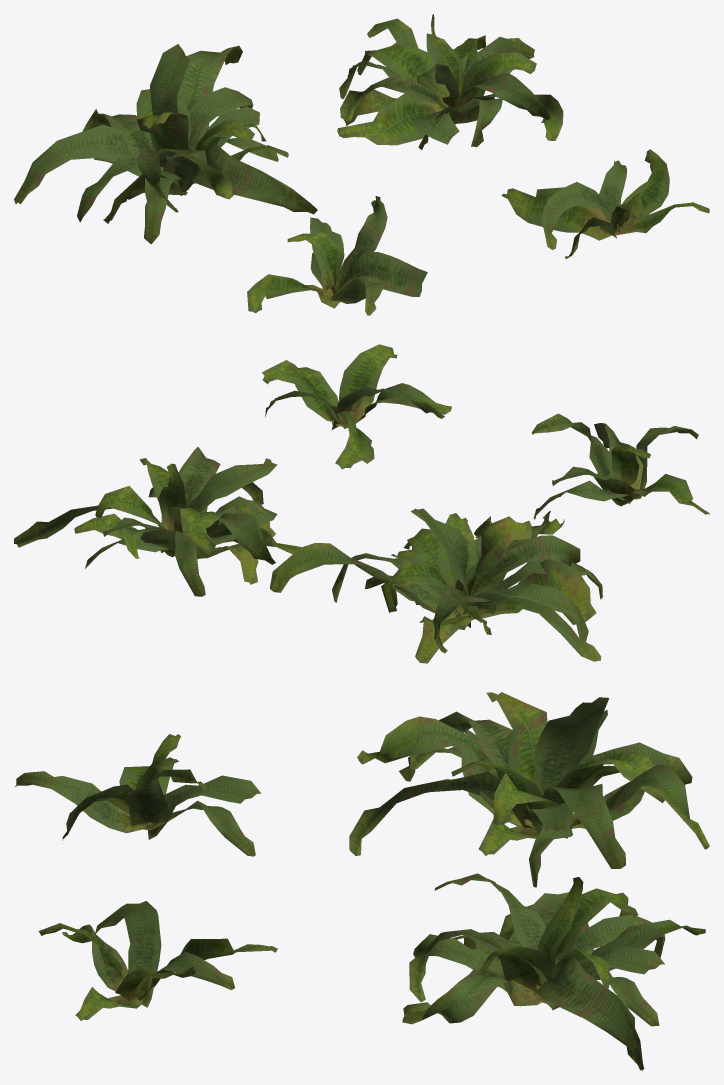
The model's file is fern_02.glb.
The picture shows the model from 3 angles, top to bottom: view 1: azimuth 30°, elevation 25°; view 2: azimuth 150°, elevation 25°; view 3: azimuth 270°, elevation 25°; orthographic projection. The views are drawn at different scales.
Parts seen in each view (by area): view 1: fern_02_b, fern_02_c, fern_02_a, fern_02_d; view 2: fern_02_b, fern_02_c, fern_02_d, fern_02_a; view 3: fern_02_b, fern_02_c, fern_02_a, fern_02_d.
Boxes of the visible parts, x1,y1,x2,y2 form: fern_02_b: (14, 44, 317, 244); fern_02_c: (337, 14, 563, 149); fern_02_a: (247, 196, 427, 315); fern_02_d: (501, 149, 709, 258); fern_02_b: (270, 508, 602, 663); fern_02_c: (14, 447, 301, 596); fern_02_d: (262, 344, 451, 469); fern_02_a: (531, 413, 709, 519); fern_02_b: (349, 692, 709, 887); fern_02_c: (402, 873, 705, 1070); fern_02_a: (15, 734, 261, 856); fern_02_d: (38, 901, 277, 1020).
Bounding box in the file's own units: 1.97 × 0.4277 × 1.72.
1 material, 1 textured.
